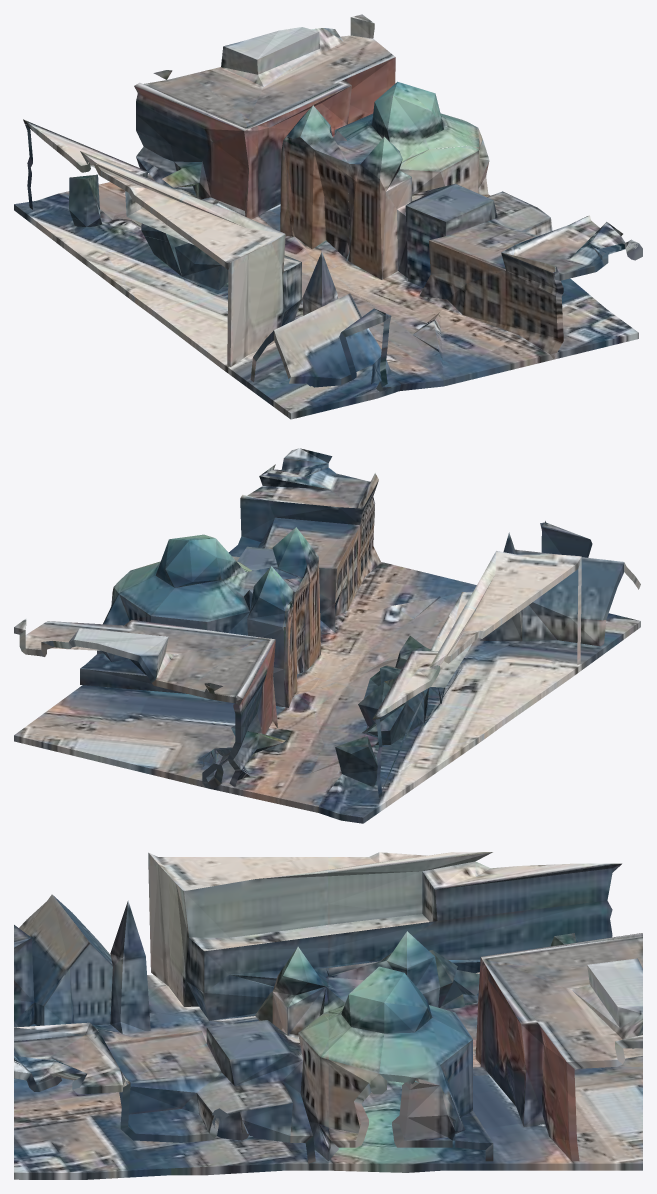
File: chunk_2_-3.glb
3 renders of one model, top to bottom at view 1: azimuth 30°, elevation 25°; view 2: azimuth 150°, elevation 25°; view 3: azimuth 270°, elevation 25°, orthographic. The views are drawn at different scales.
Parts seen in each view (by area): view 1: hero-chunk; view 2: hero-chunk; view 3: hero-chunk.
Part boxes in pixels (x1,y1,x2,y2): hero-chunk: (14,14,642,419); hero-chunk: (14,448,640,823); hero-chunk: (14,852,642,1179).
Size of the model in its own units: 56.35 by 22.56 by 76.32.
Materials: 2 (2 with a texture image).
